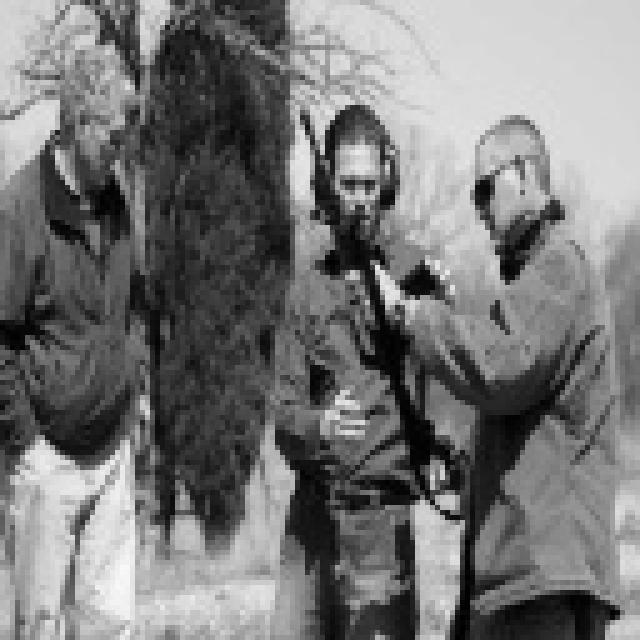Rifle: (278, 81, 504, 571)
